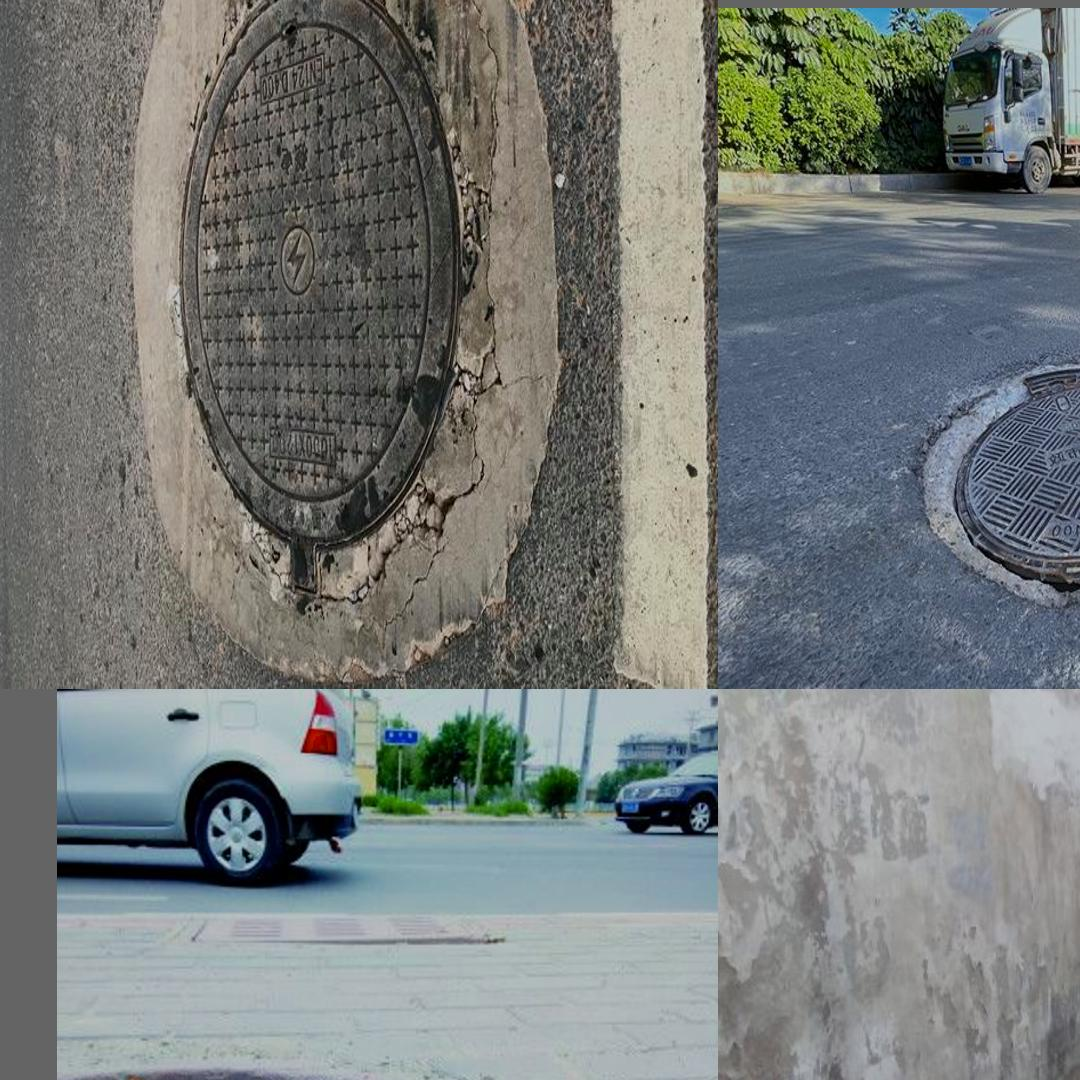circle: (134, 0, 557, 671), (867, 327, 1080, 637), (68, 1038, 680, 1080)
